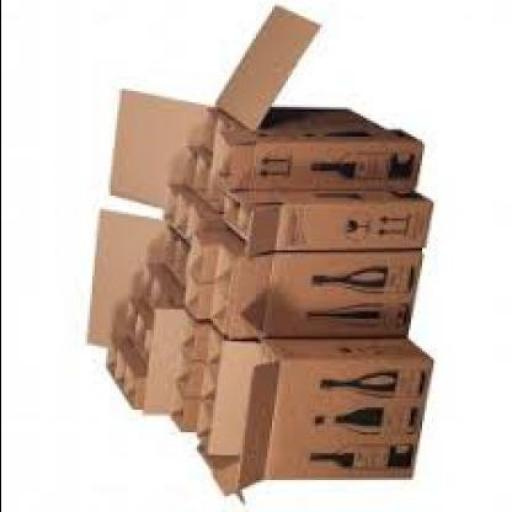cardboard: (109, 10, 378, 239), (203, 339, 432, 497), (204, 253, 421, 341), (216, 191, 433, 257), (160, 148, 234, 332), (103, 262, 191, 416), (210, 132, 424, 192), (87, 214, 168, 348), (168, 321, 228, 451)
